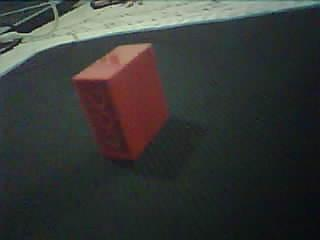lego: (71, 41, 171, 160)
